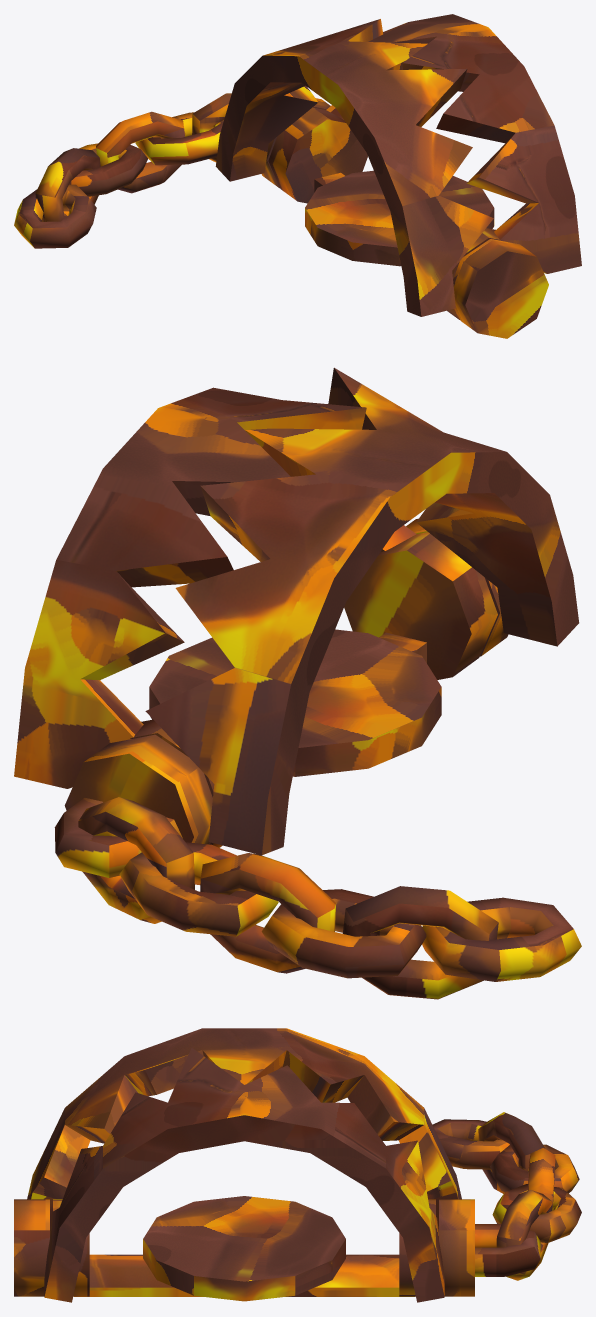
Rendered from particleTrap_closed.fbx.
3 renders of one model, top to bottom at view 1: azimuth 30°, elevation 25°; view 2: azimuth 150°, elevation 25°; view 3: azimuth 270°, elevation 25°, orthographic. The views are drawn at different scales.
Parts seen in each view (by area): view 1: trap; view 2: trap; view 3: trap.
Part boxes in pixels (x1,y1,x2,y2): trap: [14, 14, 581, 338]; trap: [14, 367, 581, 999]; trap: [14, 1028, 581, 1302].
Size of the model in its own units: 6562 by 3929 by 8218.
